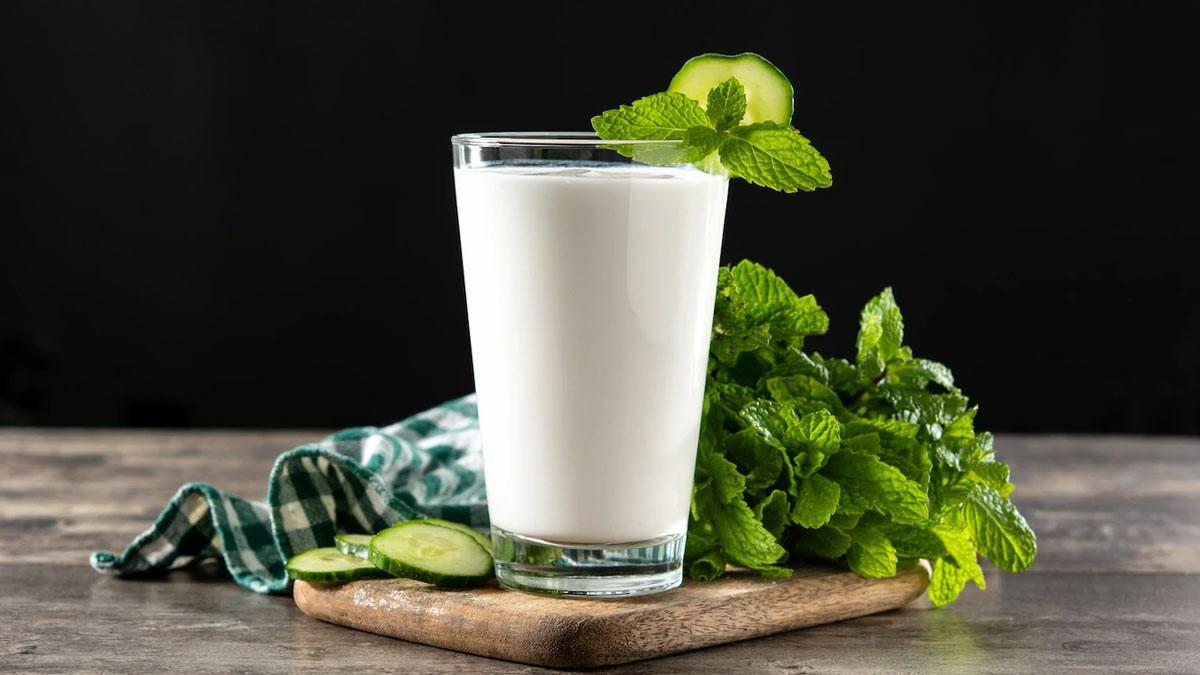Lassi: (455, 164, 728, 543)
